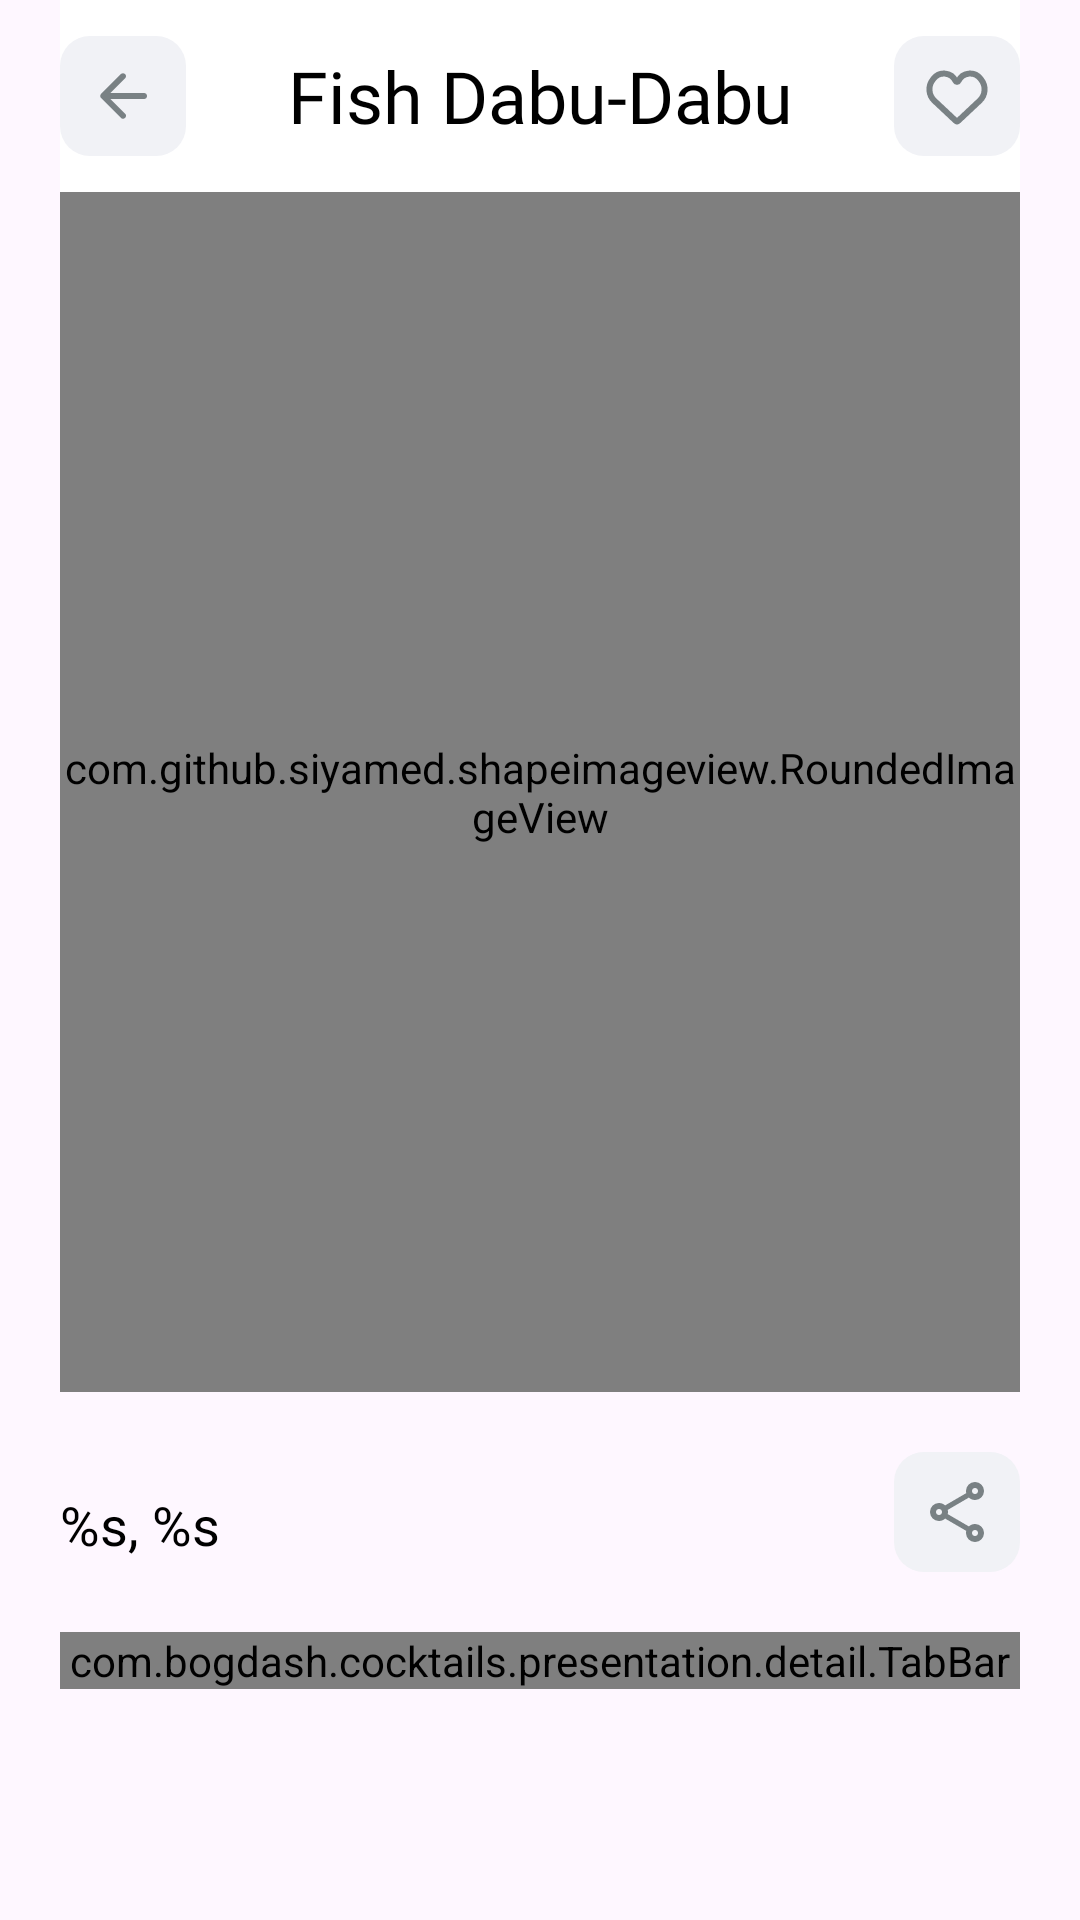

Named icons in this screenshot (1080×1920) and their centers, [x,y]:
arrow back: [123,96]
favorite: [957,96]
share: [957,1512]
